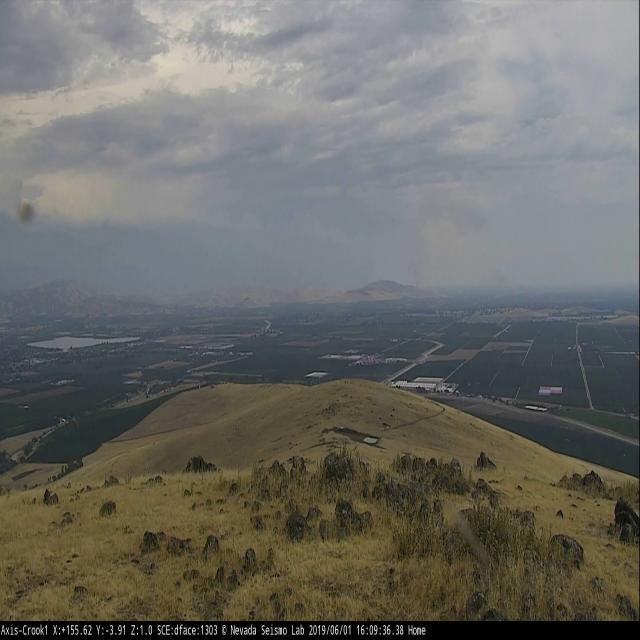smoke: (403, 197, 482, 283)
